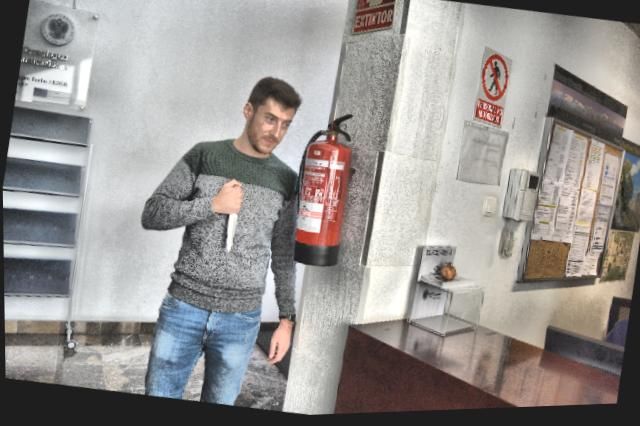knife: (218, 182, 247, 258)
